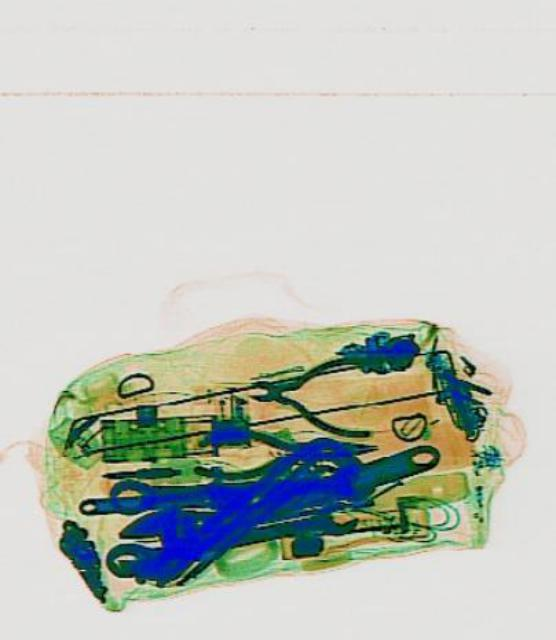Pliers: (244, 347, 372, 438), (189, 418, 373, 480)
Wrench: (230, 496, 358, 552)
